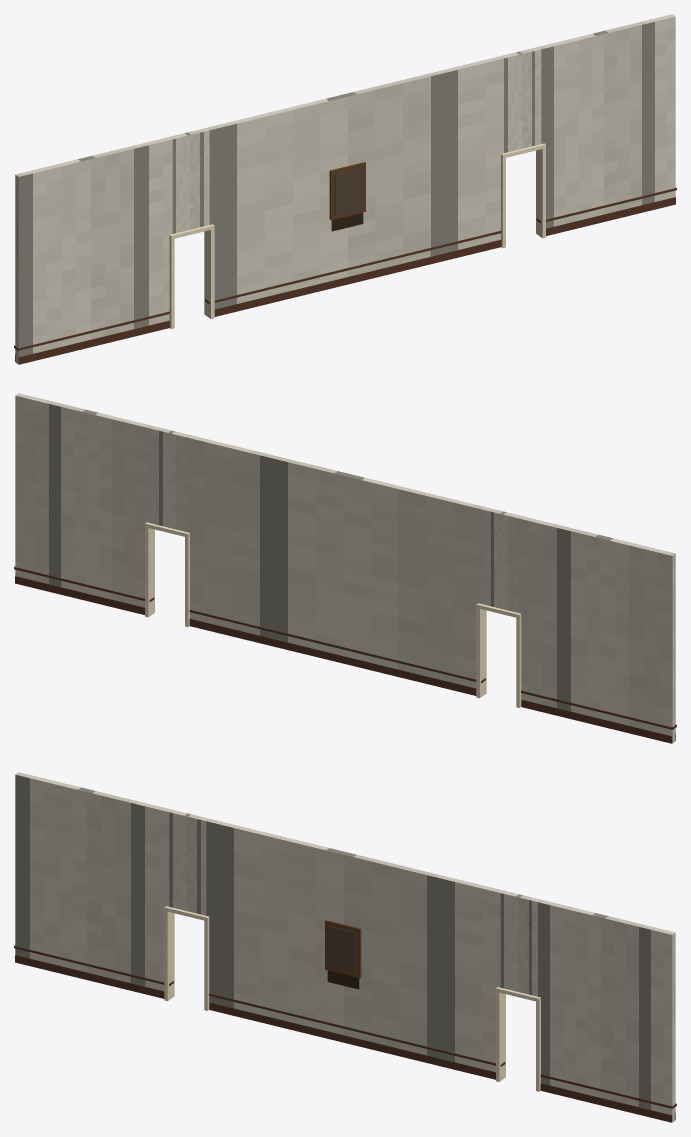
The model's file is cityhall_mid.glb.
The picture shows the model from 3 angles, top to bottom: view 1: azimuth 30°, elevation 25°; view 2: azimuth 150°, elevation 25°; view 3: azimuth 330°, elevation 25°; orthographic projection.
Parts seen in each view (by area): view 1: Box3, Box1, Box5, Box7, Box8, Box4, Box2, Box16, Box6, Box10, Box21, Box13 (+3 smaller); view 2: Box3, Box1, Box5, Box7, Box8, Box4, Box2, Box6, Box10, Box21, Box13, Box9; view 3: Box3, Box1, Box5, Box7, Box8, Box4, Box2, Box16, Box6, Box9, Box21, Box12 (+3 smaller).
Part boxes in pixels (<box>): Box3: <box>206,56,503,309</box>; Box1: <box>15,137,172,364</box>; Box5: <box>538,14,675,228</box>; Box7: <box>170,128,209,233</box>; Box8: <box>501,47,541,152</box>; Box4: <box>214,239,501,316</box>; Box2: <box>15,320,169,364</box>; Box16: <box>334,168,362,215</box>; Box6: <box>546,197,675,235</box>; Box10: <box>204,224,214,319</box>; Box21: <box>205,230,501,304</box>; Box13: <box>536,143,545,238</box>; Box3: <box>187,435,484,688</box>; Box1: <box>518,516,675,743</box>; Box5: <box>15,393,152,607</box>; Box7: <box>481,507,520,612</box>; Box8: <box>149,426,189,531</box>; Box4: <box>189,618,476,695</box>; Box2: <box>521,699,675,743</box>; Box6: <box>15,576,144,614</box>; Box10: <box>476,603,486,698</box>; Box21: <box>189,609,485,683</box>; Box13: <box>145,522,154,617</box>; Box9: <box>516,613,521,707</box>; Box3: <box>206,819,503,1072</box>; Box1: <box>15,772,172,990</box>; Box5: <box>538,899,675,1122</box>; Box7: <box>169,810,209,915</box>; Box8: <box>500,890,540,996</box>; Box4: <box>209,1002,495,1079</box>; Box2: <box>15,955,164,998</box>; Box16: <box>328,926,356,973</box>; Box6: <box>540,1083,675,1122</box>; Box9: <box>164,906,174,1001</box>; Box21: <box>209,993,505,1066</box>; Box12: <box>496,987,505,1081</box>.
Bounding box in the file's own units: 16.89 × 4.6 × 0.3.
6 materials, 1 textured.
